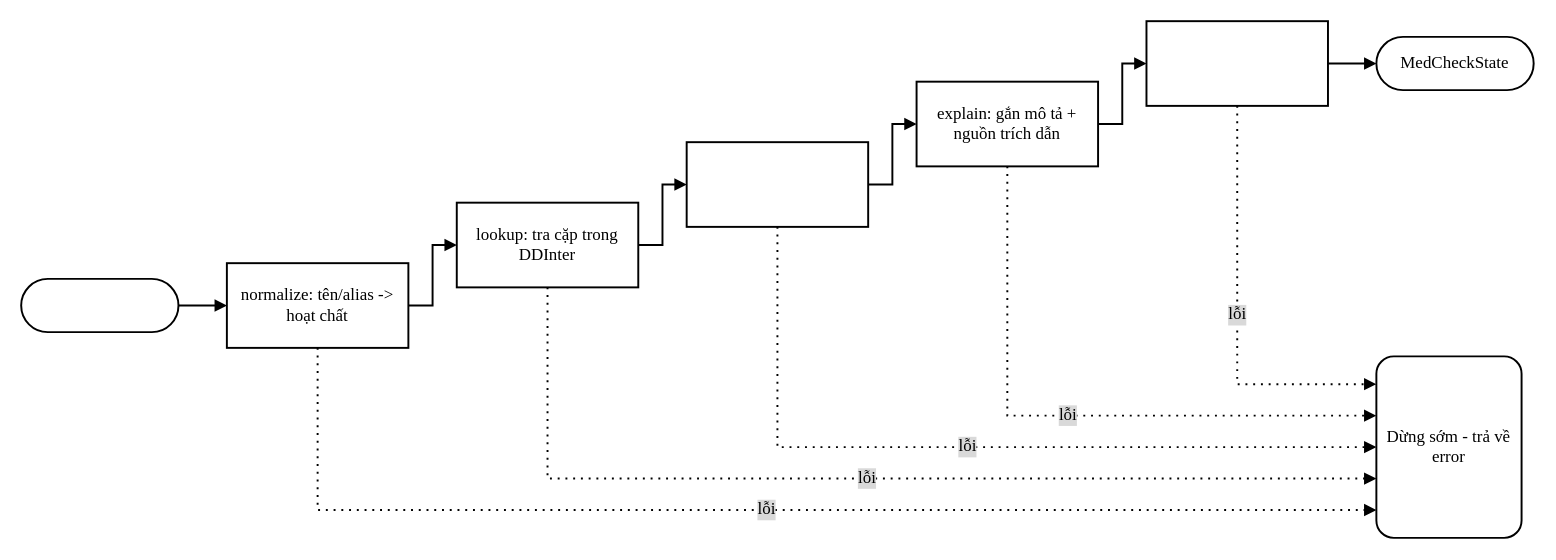
This 1556x560 diagram has some shape labels left out. Here are the shapes that lost their labels. From the top down, the centre of each, then its label:
(x=1236, y=63): guardrail: kiểm citation + lọc câu nguy hiểm
(x=777, y=184): rank: nhe/trung_binh/ nang/chua_phan_loai
(x=99, y=305): raw_medications
